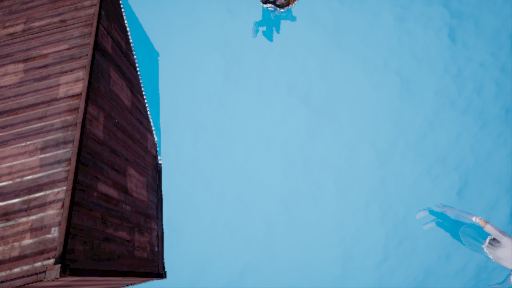person: (418, 204, 512, 282)
